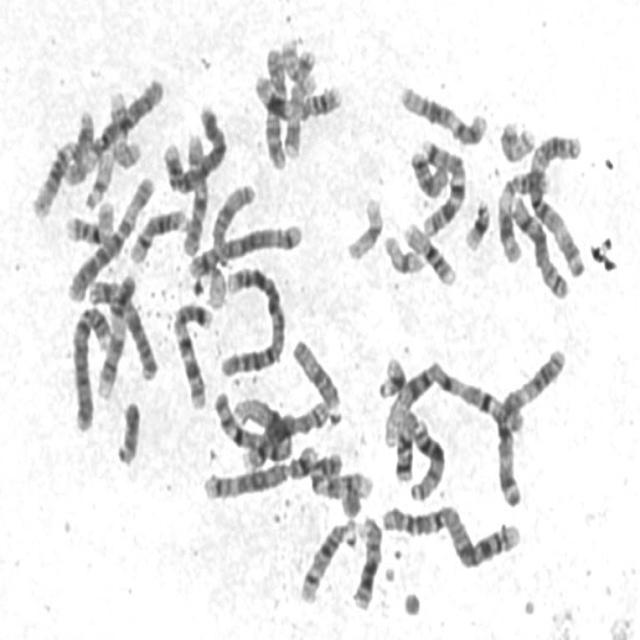A1: (376, 353, 528, 447), (210, 384, 295, 466)
A2: (376, 493, 524, 571), (215, 258, 288, 377)
A3: (491, 339, 569, 510), (523, 122, 588, 281)
B4: (158, 99, 229, 194), (67, 296, 115, 434)
B5: (198, 438, 322, 502), (183, 216, 305, 278)
C10: (178, 128, 210, 257), (259, 39, 289, 171)
C11: (492, 164, 553, 263), (250, 67, 344, 121)
C12: (25, 115, 100, 223), (395, 76, 490, 146)
C6: (62, 167, 157, 304), (58, 70, 166, 187)
C7: (416, 132, 469, 238), (168, 293, 215, 411)
C8: (506, 186, 570, 301), (237, 394, 330, 470)
C9: (91, 268, 139, 397), (305, 447, 375, 501)
D13: (404, 408, 448, 503), (346, 508, 384, 612)
D14: (295, 512, 359, 606), (124, 199, 191, 266)
D15: (206, 177, 257, 270), (288, 331, 344, 411)
E16: (398, 213, 458, 288), (61, 192, 118, 247)
E17: (279, 64, 319, 160), (102, 83, 142, 171)
E18: (405, 141, 450, 200), (390, 403, 419, 482)
F19: (341, 188, 385, 262), (379, 226, 426, 276)
F20: (494, 112, 538, 164), (276, 32, 318, 84)
G21: (460, 191, 492, 252), (373, 348, 409, 401)
G22: (80, 143, 118, 211), (200, 256, 229, 311)
X: (84, 271, 159, 383)
Y: (112, 393, 143, 467)
